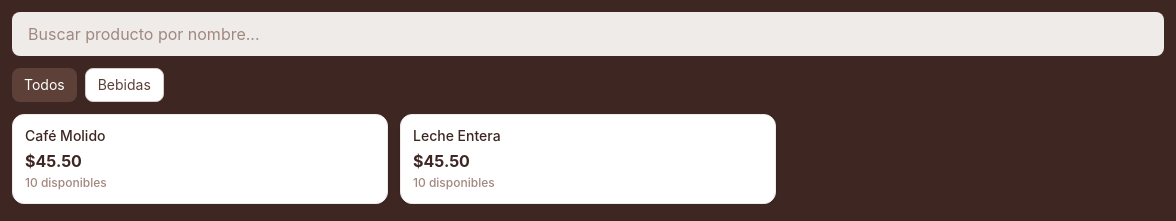
Scenario: ProductSearch › filtra por texto de búsqueda
Type "café" into the field with placeholder "Buscar producto por nombre..." at [588, 34], box [12,12,1164,56]
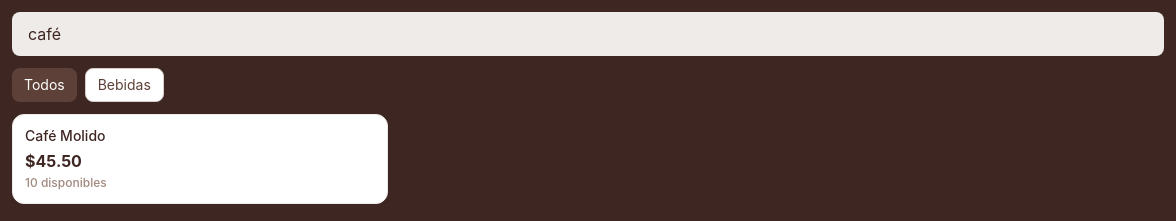
Check: the text "Café Molido" is shown, box [25,127,106,144]
Check: the button "Leche Entera" is gone
